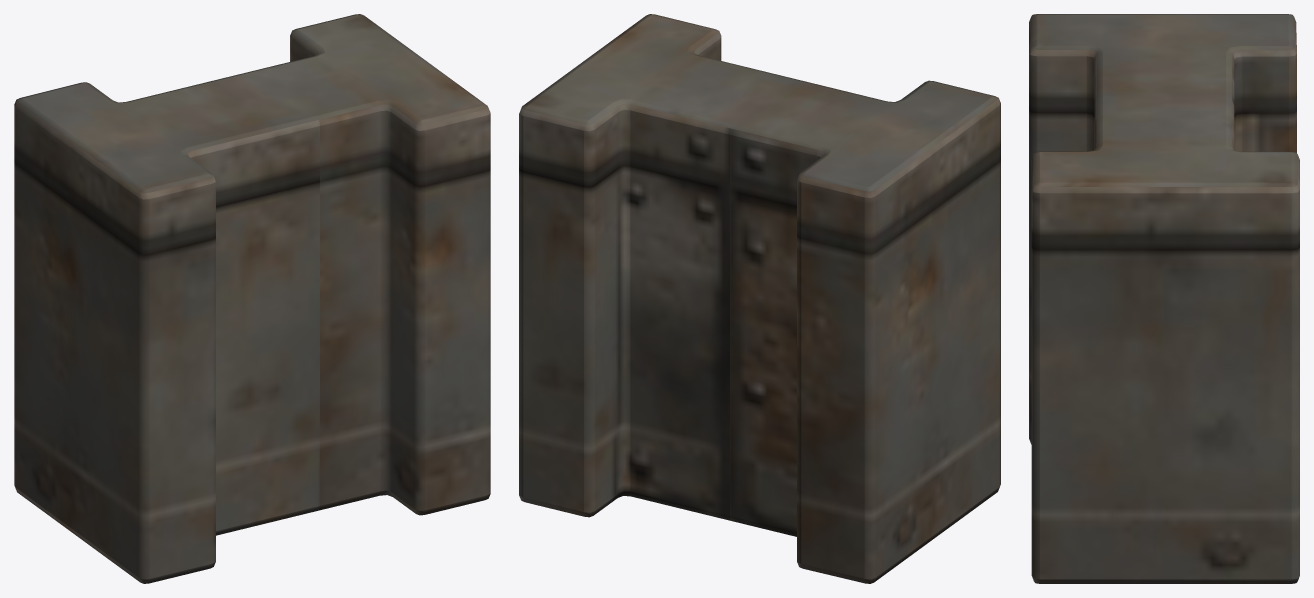
File: prop_small_018.glb
3 views of the same model, side by side, from view 1: azimuth 30°, elevation 25°; view 2: azimuth 150°, elevation 25°; view 3: azimuth 270°, elevation 25° (orthographic).
Visible parts, largest first — view 1: Building_12_052; view 2: Building_12_052; view 3: Building_12_052.
Part boxes in pixels (box(x1,y1,x2,y2)): Building_12_052: box(14, 14, 490, 583); Building_12_052: box(519, 14, 1000, 583); Building_12_052: box(1029, 14, 1299, 583).
Bounding box in the file's own units: 0.7475 × 0.8 × 0.4899.
Materials: 1 (1 with a texture image).
